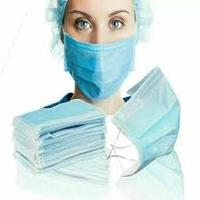flu mask: (63, 33, 137, 100)
